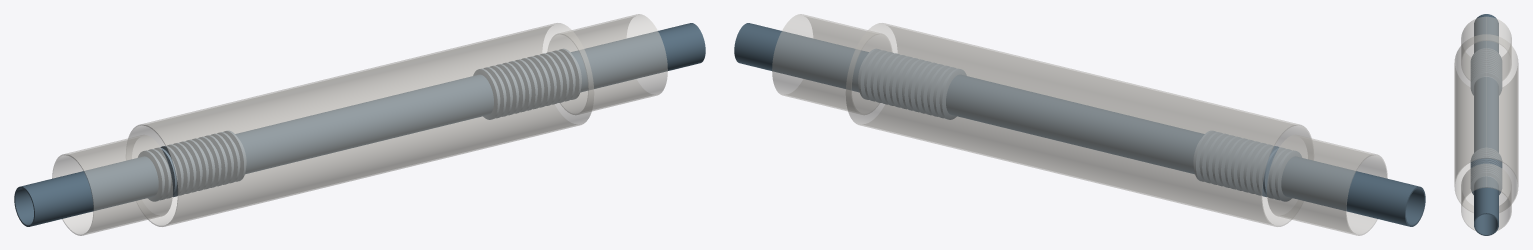
Rendered from 2ppu-dn80-L1662-D89-k-o226.glb.
The picture shows the model from 3 angles, left to right: view 1: azimuth 30°, elevation 25°; view 2: azimuth 150°, elevation 25°; view 3: azimuth 270°, elevation 25°; orthographic projection. The views are drawn at different scales.
Visible parts, largest first — view 1: uslovno_kozhuh_ppu, uslovno_obolochka_l, uslovno_obolochka_r, patrubok_1, patrubok_3, patrubok_2, patrubok_4, prokladka_silfon_1, prokladka_silfon_2; view 2: uslovno_kozhuh_ppu, uslovno_obolochka_l, uslovno_obolochka_r, patrubok_1, patrubok_3, patrubok_2, patrubok_4, prokladka_silfon_1, prokladka_silfon_2; view 3: uslovno_kozhuh_ppu, uslovno_obolochka_r, uslovno_obolochka_l, patrubok_4, prokladka_silfon_1, prokladka_silfon_2, patrubok_2, patrubok_1, patrubok_3.
Part boxes in pixels (x1,y1,x2,y2): uslovno_kozhuh_ppu: (128, 23, 594, 226); uslovno_obolochka_l: (52, 134, 172, 235); uslovno_obolochka_r: (547, 14, 667, 114); patrubok_1: (14, 156, 158, 226); patrubok_3: (357, 74, 493, 144); patrubok_2: (235, 104, 370, 174); patrubok_4: (571, 23, 705, 92); prokladka_silfon_1: (138, 130, 246, 201); prokladka_silfon_2: (473, 48, 581, 119); uslovno_kozhuh_ppu: (845, 23, 1311, 226); uslovno_obolochka_l: (1267, 134, 1387, 235); uslovno_obolochka_r: (772, 14, 892, 114); patrubok_1: (1281, 156, 1425, 226); patrubok_3: (946, 74, 1082, 144); patrubok_2: (1069, 104, 1204, 174); patrubok_4: (734, 23, 868, 92); prokladka_silfon_1: (1193, 130, 1301, 201); prokladka_silfon_2: (858, 48, 966, 119); uslovno_kozhuh_ppu: (1454, 34, 1518, 212); uslovno_obolochka_r: (1461, 163, 1511, 230); uslovno_obolochka_l: (1461, 16, 1511, 80); patrubok_4: (1474, 176, 1498, 235); prokladka_silfon_1: (1470, 48, 1502, 95); prokladka_silfon_2: (1470, 147, 1502, 194); patrubok_2: (1474, 77, 1498, 121); patrubok_1: (1474, 14, 1498, 53); patrubok_3: (1474, 113, 1498, 152).
Size of the model in its own units: 1662 by 226 by 226.
